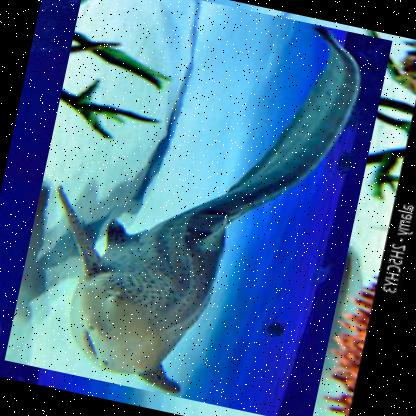zebra_shark: (2, 0, 392, 415)
